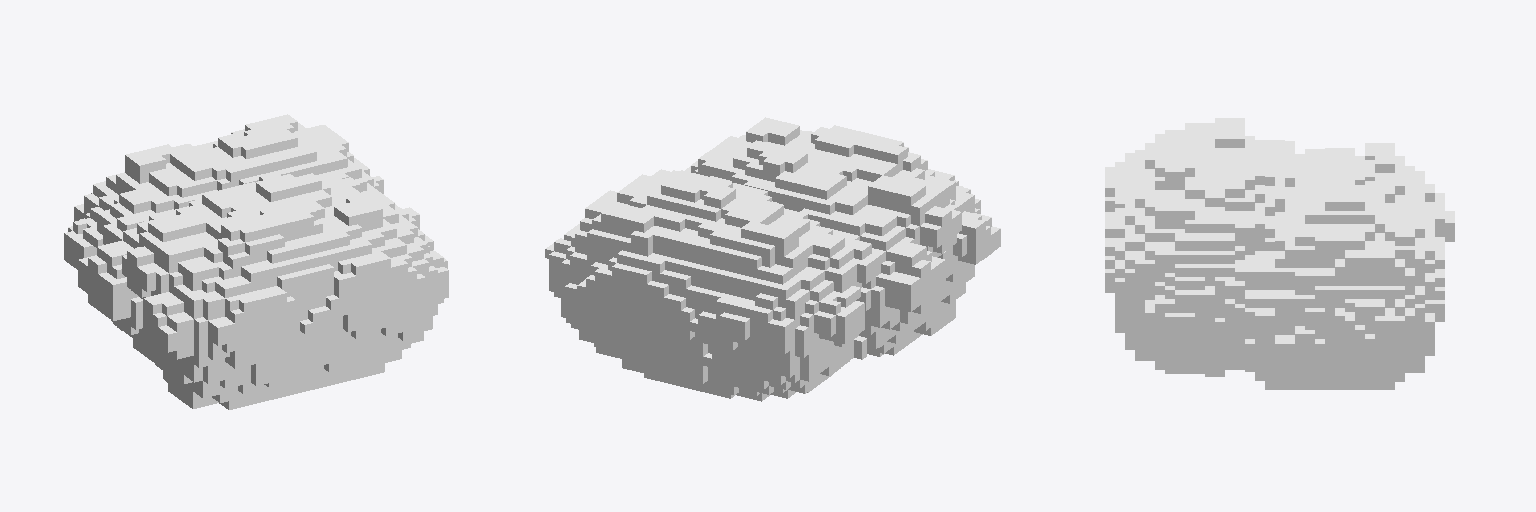
The model's file is canopy_0.obj.
3 views of the same model, side by side, from view 1: azimuth 30°, elevation 25°; view 2: azimuth 150°, elevation 25°; view 3: azimuth 270°, elevation 25° (orthographic).
Parts seen in each view (by area): view 1: object 1; view 2: object 1; view 3: object 1.
Boxes of the visible parts, x1,y1,x2,y2 form: object 1: [64, 114, 448, 409]; object 1: [545, 117, 1000, 401]; object 1: [1105, 118, 1454, 389].
Size of the model in its own units: 11.1 by 5.7 by 10.5.